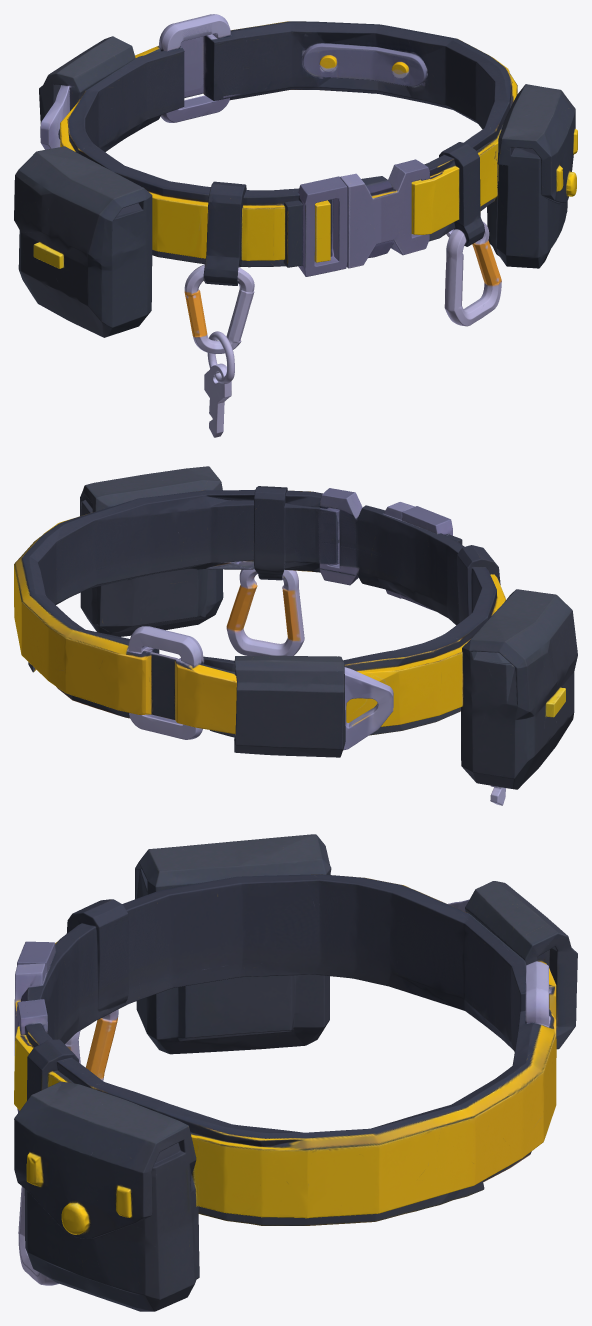
The model's file is utility_belt.glb.
3 renders of one model, top to bottom at view 1: azimuth 30°, elevation 25°; view 2: azimuth 150°, elevation 25°; view 3: azimuth 270°, elevation 25°, orthographic. The views are drawn at different scales.
Bounding box in the file's own units: 1.9 × 0.9315 × 1.41.
1 material, 1 textured.
